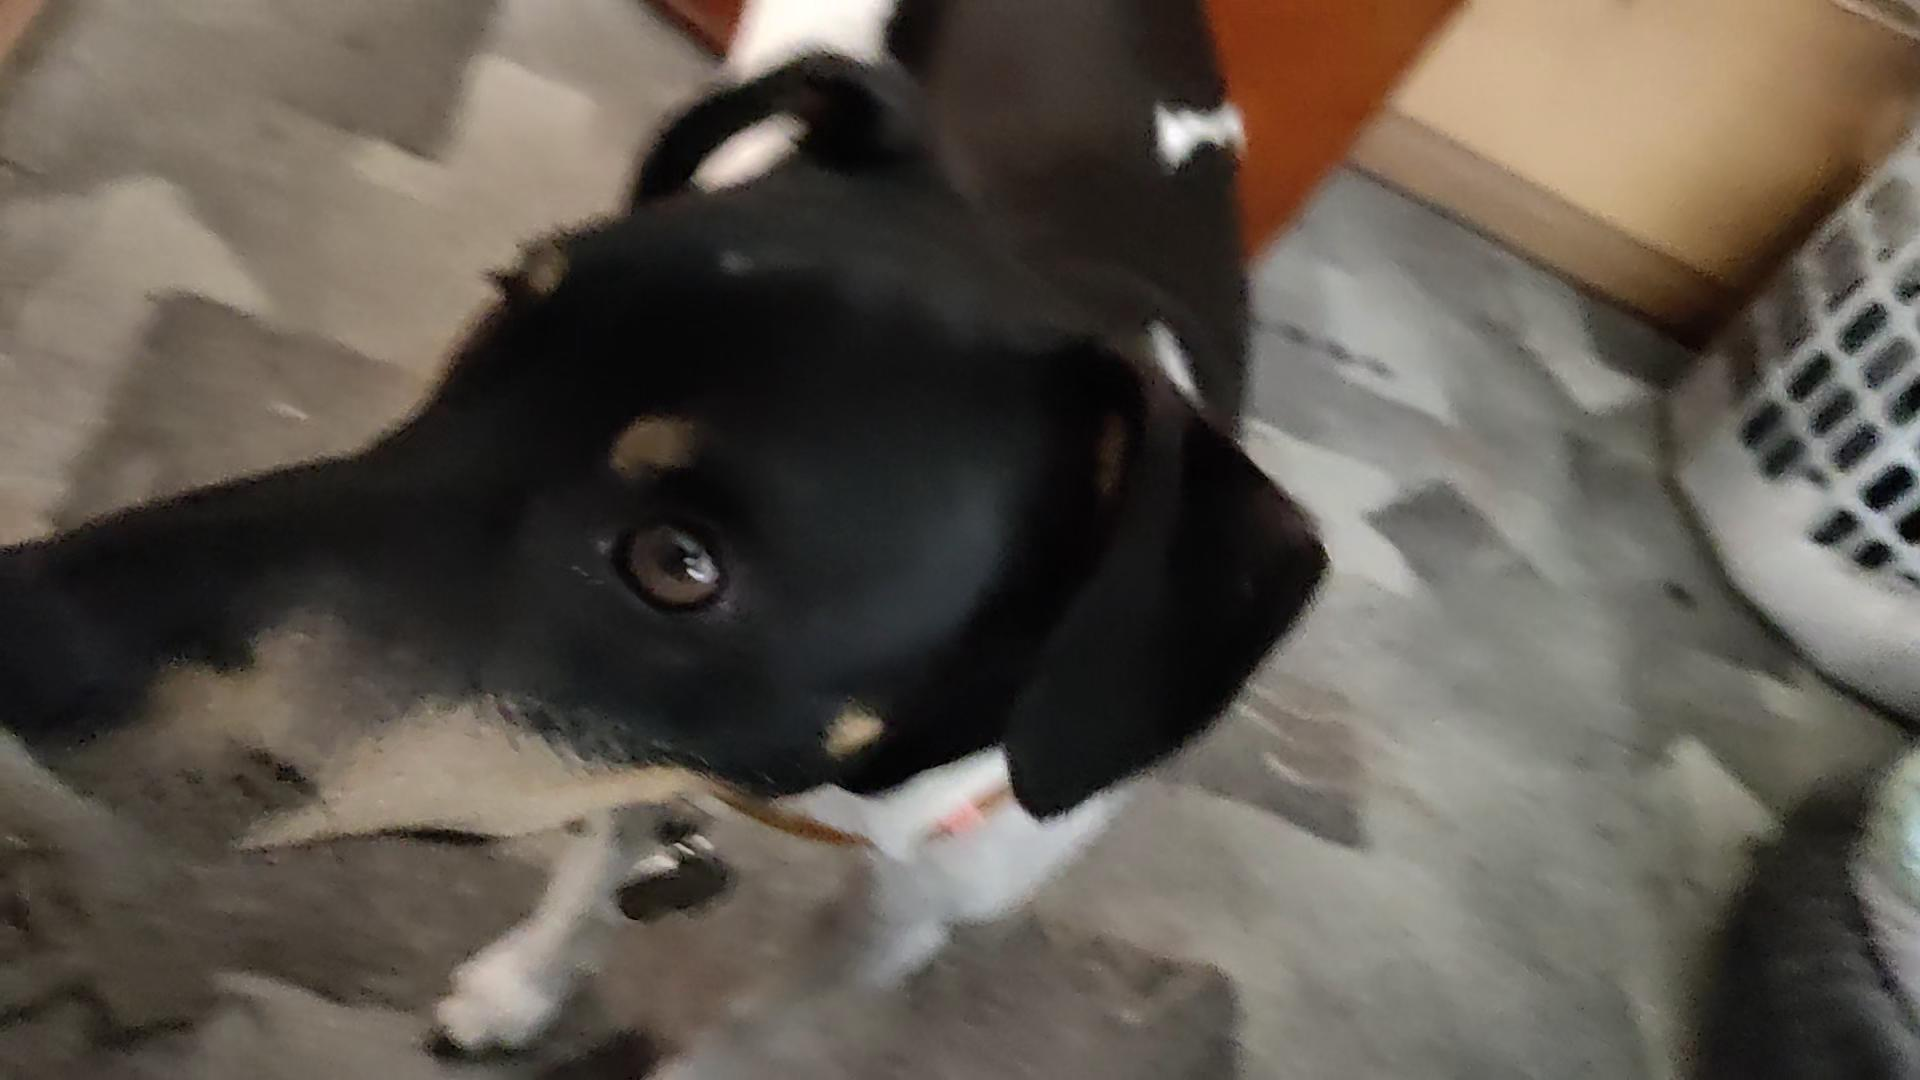Dog: (0, 0, 1367, 1079)
